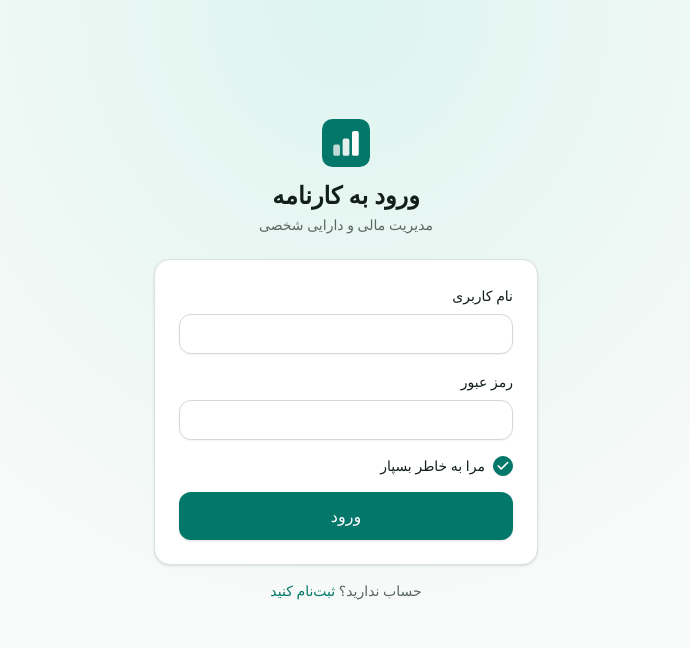
LoginPage › shows the server error for wrong credentials
Type "sina" into the field labelled "نام کاربری". click: (346, 334)
box: left=179, top=314, right=513, bottom=354
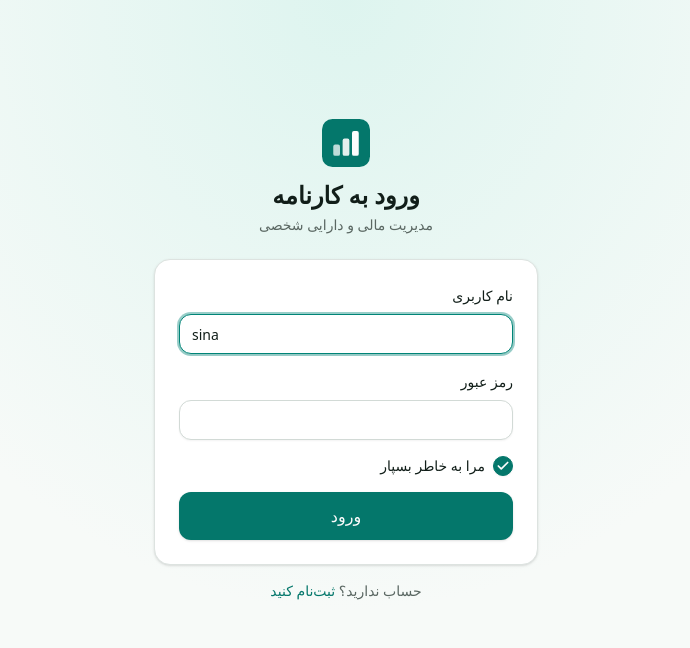
Type "wrong" into the password field labelled "رمز عبور". click: (346, 420)
box: left=179, top=400, right=513, bottom=440
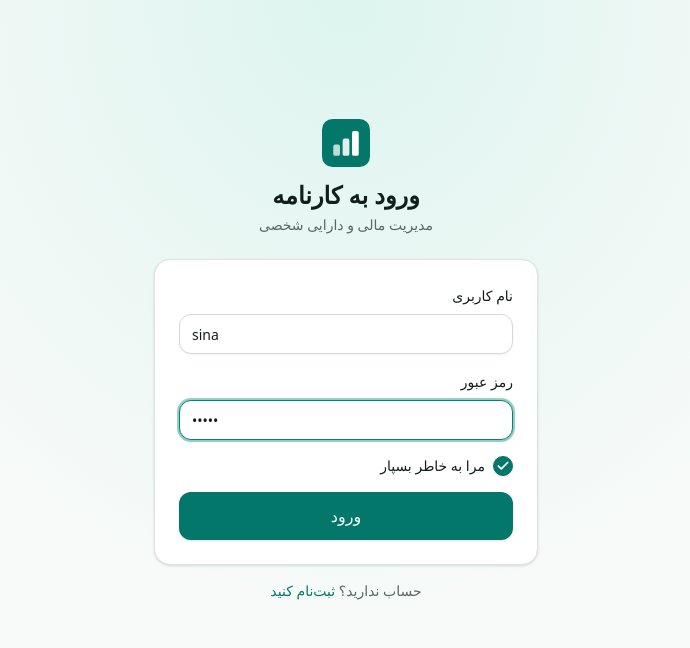
Click the button "ورود". click: (346, 516)
box: left=179, top=492, right=513, bottom=540
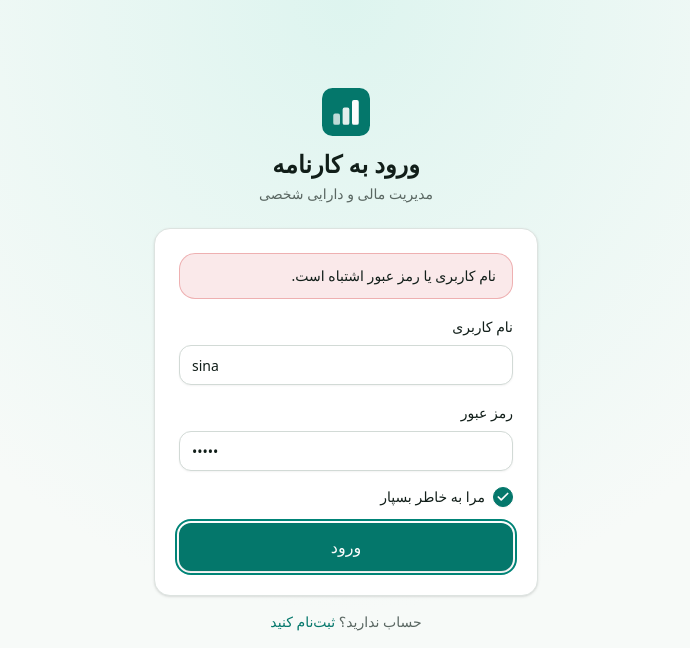
Expected: the link "ثبت‌نام کنید" is shown, left=270, top=612, right=335, bottom=631
Now the message reads "نام کاربری یا رمز عبور اشتباه است.", box left=292, top=266, right=496, bottom=285
